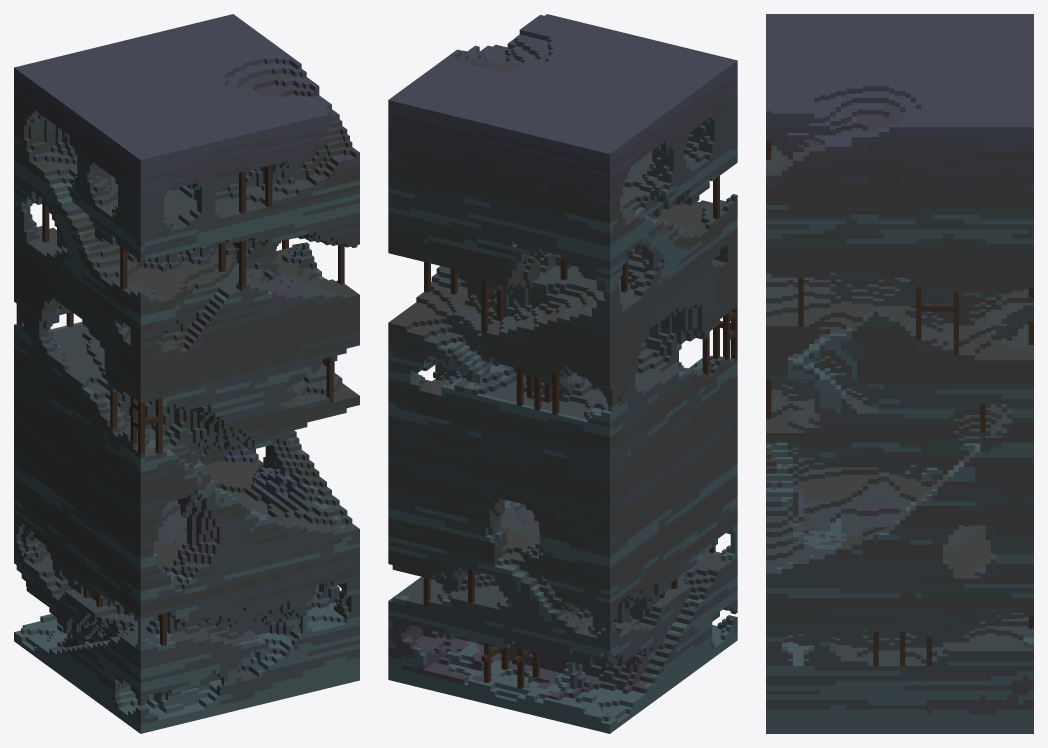
File: map_cdg_sculpted_cestlabonne-0.obj
3 renders of one model, left to right at view 1: azimuth 30°, elevation 25°; view 2: azimuth 150°, elevation 25°; view 3: azimuth 270°, elevation 25°, orthographic. The views are drawn at different scales.
Parts seen in each view (by area): view 1: map_cdg_sculpted_cestlabonne-0; view 2: map_cdg_sculpted_cestlabonne-0; view 3: map_cdg_sculpted_cestlabonne-0.
Part boxes in pixels (x1,y1,x2,y2): map_cdg_sculpted_cestlabonne-0: [14, 14, 359, 733]; map_cdg_sculpted_cestlabonne-0: [388, 14, 737, 733]; map_cdg_sculpted_cestlabonne-0: [766, 14, 1033, 733].
Bounding box in the file's own units: 50 × 125 × 50.
Materials: 1 (1 with a texture image).
